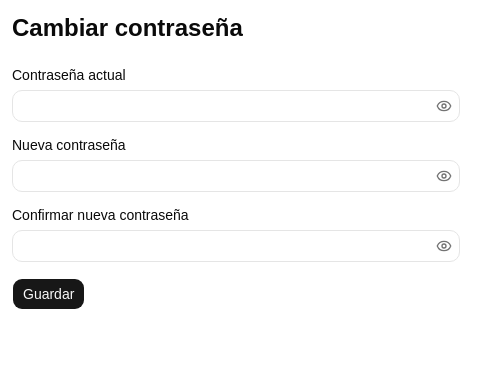
ChangePasswordPage › shows validation error for empty current password
Click the button "Guardar".
click(49, 294)  # box [12,278,85,310]
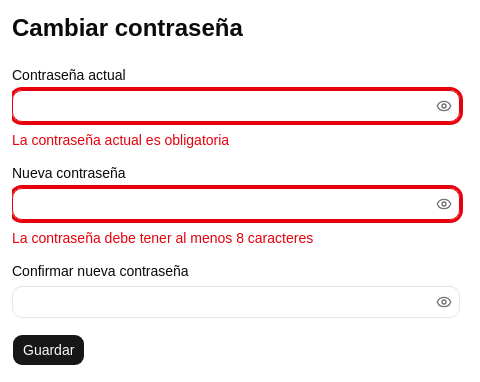
Check: the text "La contraseña actual es obligatoria" is shown, box [12,132,229,148]
